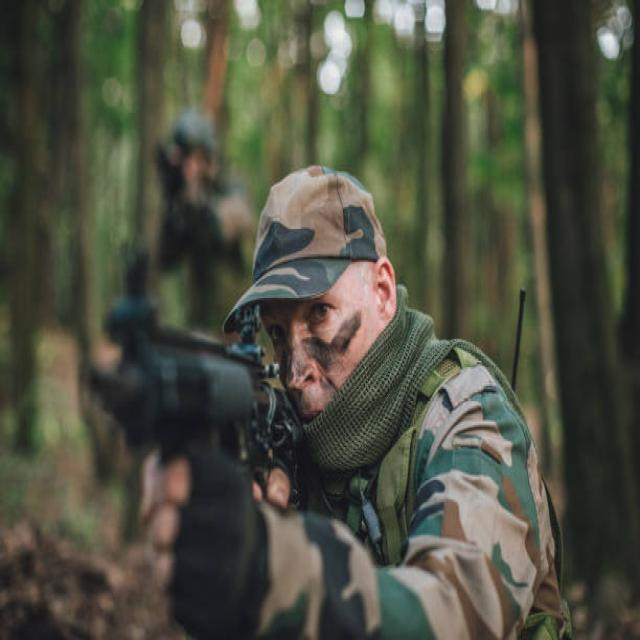soldier: (92, 125, 503, 640)
